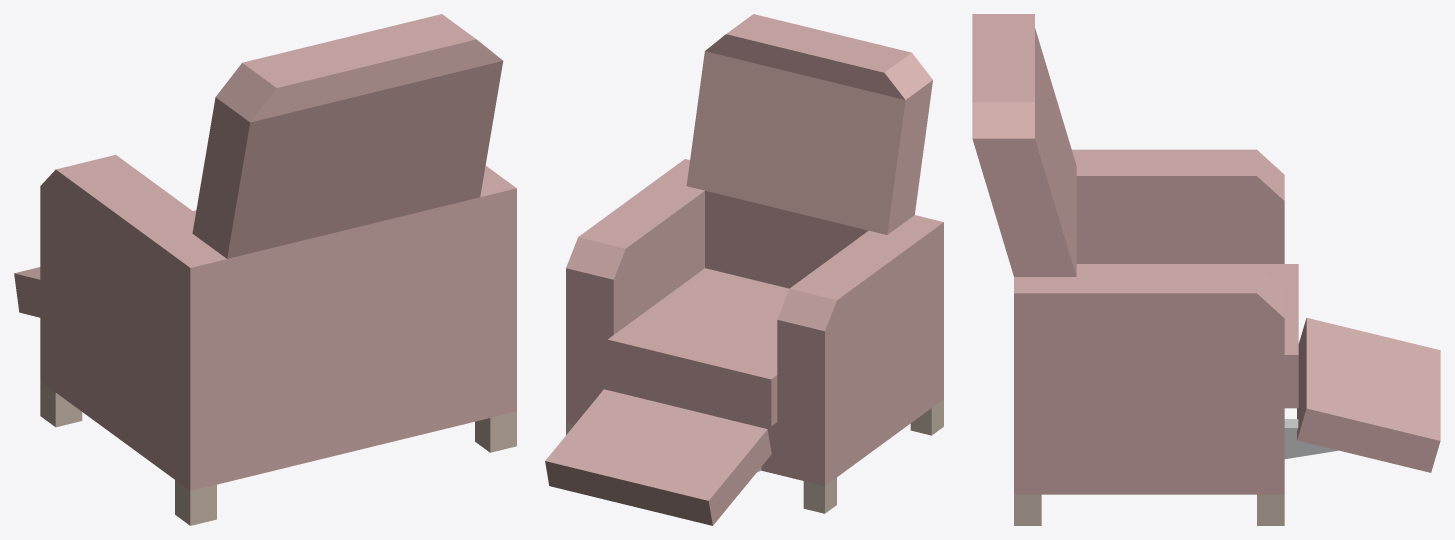
The model's file is furn_loungeChairRelax.glb.
3 views of the same model, side by side, from view 1: azimuth 30°, elevation 25°; view 2: azimuth 150°, elevation 25°; view 3: azimuth 270°, elevation 25° (orthographic). The views are drawn at different scales.
Size of the model in its own units: 0.98 by 1.26 by 1.35.
